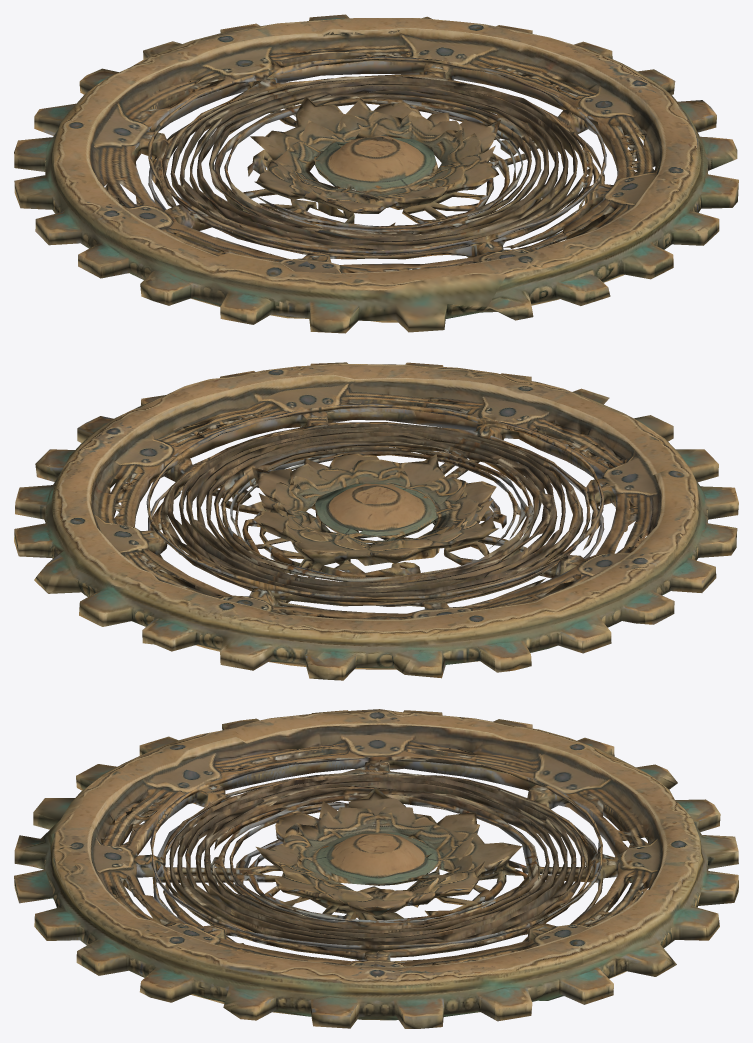
Rendered from PR_BronzeGear_04.fbx.
3 views of the same model, one above another, from view 1: azimuth 30°, elevation 25°; view 2: azimuth 150°, elevation 25°; view 3: azimuth 270°, elevation 25° (orthographic).
Parts seen in each view (by area): view 1: texture_mapping; view 2: texture_mapping; view 3: texture_mapping.
Part boxes in pixels (box(x1,y1,x2,y2)): texture_mapping: box(14, 14, 738, 333); texture_mapping: box(14, 362, 738, 680); texture_mapping: box(14, 709, 738, 1028).
Bounding box in the file's own units: 1 × 0.9987 × 0.0651.
Materials: 1 (1 with a texture image).
